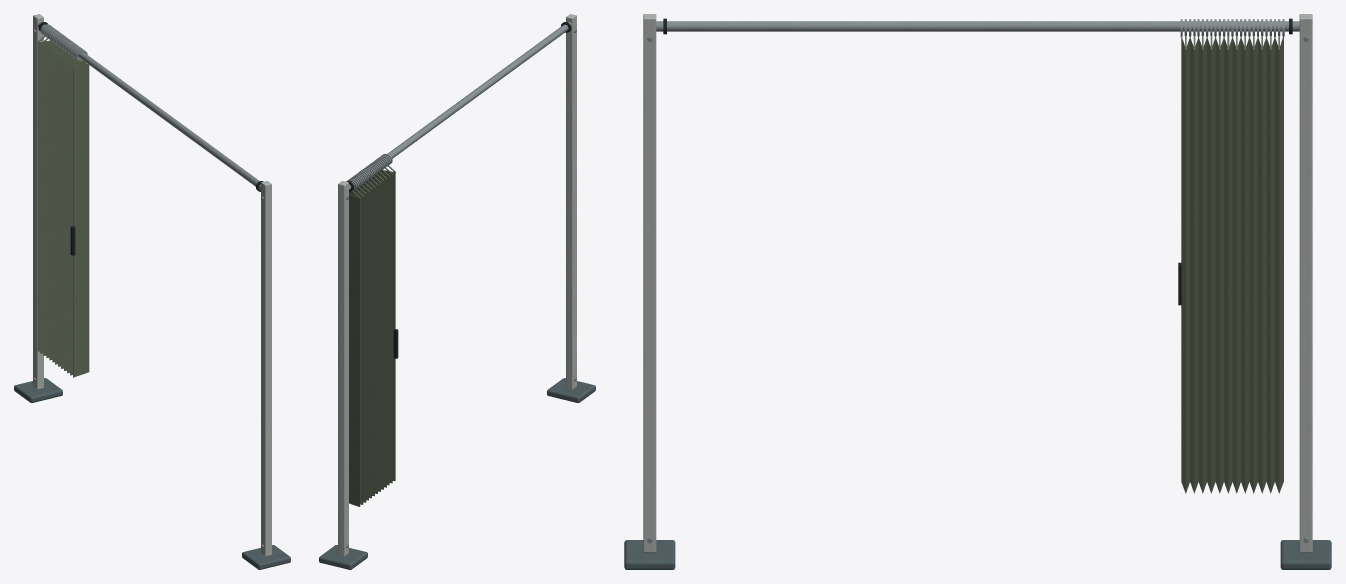
Rendered from AST-CRW-002__gathered.glb.
3 renders of one model, left to right at view 1: azimuth 30°, elevation 25°; view 2: azimuth 150°, elevation 25°; view 3: azimuth 270°, elevation 25°, orthographic. The views are drawn at different scales.
Parts seen in each view (by area): view 1: AST-CRW-002__MOVING_crew_sage_privacy, AST-CRW-002__STATIC_staff_white_paint, AST-CRW-002__STATIC_staff_zinc, AST-CRW-002__STATIC_staff_bluegrey_paint, AST-CRW-002__MOVING_staff_zinc; view 2: AST-CRW-002__MOVING_crew_sage_privacy, AST-CRW-002__STATIC_staff_white_paint, AST-CRW-002__STATIC_staff_zinc, AST-CRW-002__STATIC_staff_bluegrey_paint, AST-CRW-002__MOVING_staff_zinc; view 3: AST-CRW-002__MOVING_crew_sage_privacy, AST-CRW-002__STATIC_staff_white_paint, AST-CRW-002__STATIC_staff_zinc, AST-CRW-002__STATIC_staff_bluegrey_paint, AST-CRW-002__MOVING_staff_zinc.
Boxes of the visible parts, bbox=[...] form: AST-CRW-002__MOVING_crew_sage_privacy: bbox=[37, 36, 89, 377]; AST-CRW-002__STATIC_staff_white_paint: bbox=[33, 14, 271, 556]; AST-CRW-002__STATIC_staff_zinc: bbox=[33, 22, 263, 547]; AST-CRW-002__STATIC_staff_bluegrey_paint: bbox=[14, 378, 290, 569]; AST-CRW-002__MOVING_staff_zinc: bbox=[40, 24, 87, 61]; AST-CRW-002__MOVING_crew_sage_privacy: bbox=[349, 165, 395, 506]; AST-CRW-002__STATIC_staff_white_paint: bbox=[338, 14, 576, 556]; AST-CRW-002__STATIC_staff_zinc: bbox=[346, 22, 576, 547]; AST-CRW-002__STATIC_staff_bluegrey_paint: bbox=[319, 378, 595, 569]; AST-CRW-002__MOVING_staff_zinc: bbox=[347, 153, 392, 190]; AST-CRW-002__MOVING_crew_sage_privacy: bbox=[1180, 36, 1284, 493]; AST-CRW-002__STATIC_staff_white_paint: bbox=[643, 14, 1312, 552]; AST-CRW-002__STATIC_staff_zinc: bbox=[647, 21, 1308, 543]; AST-CRW-002__STATIC_staff_bluegrey_paint: bbox=[624, 540, 1331, 569]; AST-CRW-002__MOVING_staff_zinc: bbox=[1180, 19, 1284, 35].
Size of the model in its own units: 0.192 by 2.12 by 2.5.
Materials: 5 (5 with a texture image).
